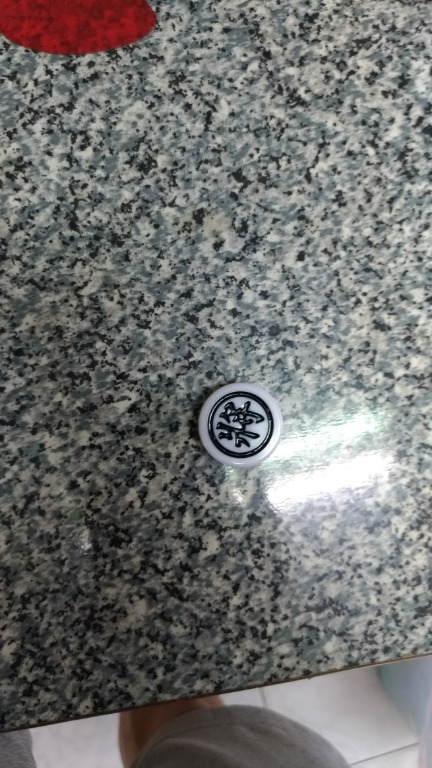b-king: (190, 373, 297, 477)
